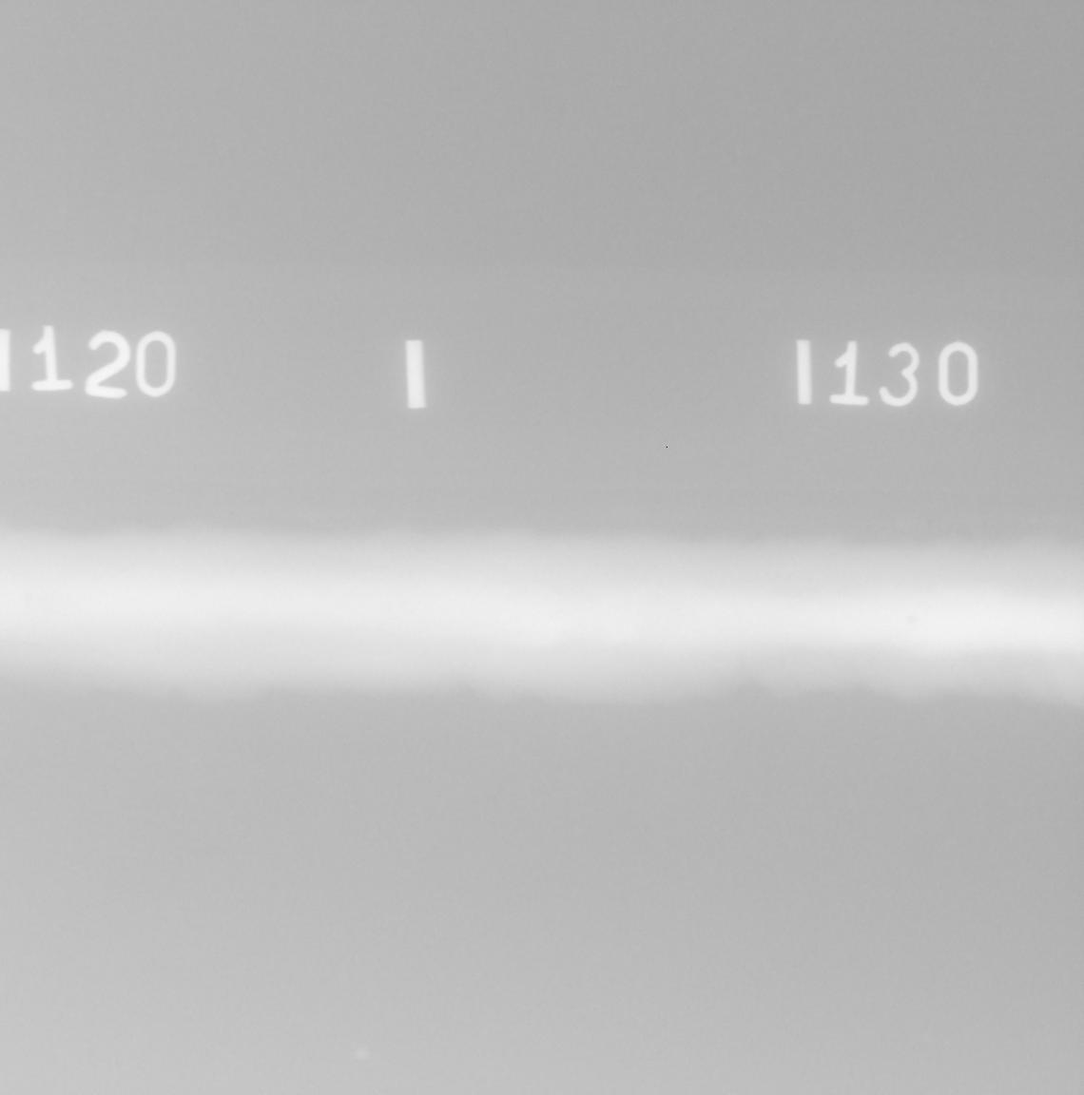Pore/Porosity: (907, 615, 917, 624), (24, 593, 34, 601)
